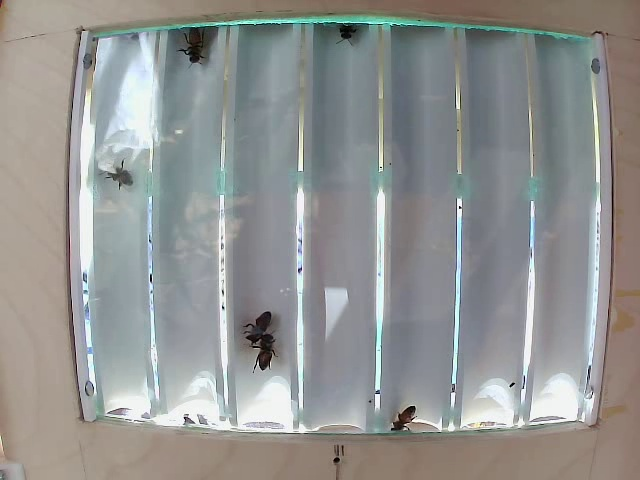bee: (96, 156, 139, 192), (179, 23, 215, 64), (253, 334, 287, 374), (243, 311, 273, 339)
